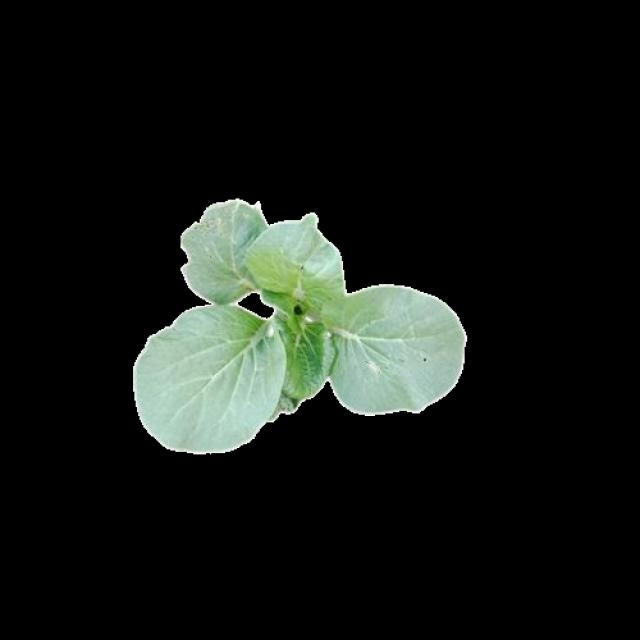not-mature: (137, 209, 463, 453)
unhealthy: (321, 287, 462, 408), (247, 215, 348, 307), (180, 205, 272, 303)
